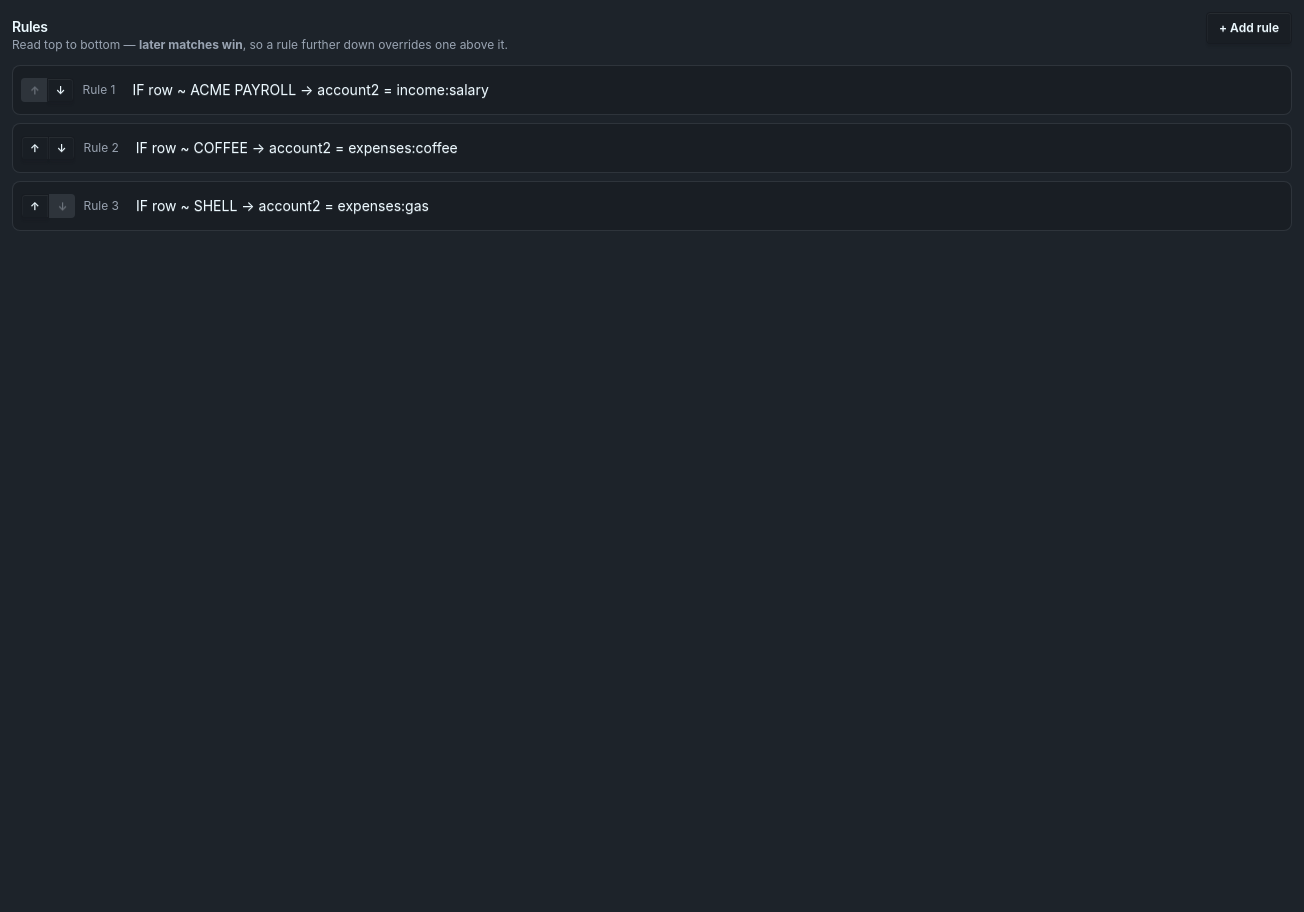
Test: COMPONENT RulesList AND-groups › adds a condition to the group being edited, and a new group beside it
What coordinates should you click on to do the following:
click the button with aria-label "Edit rule 2"
I would click on:
 (297, 148)
Its box is [127, 132, 1283, 164].
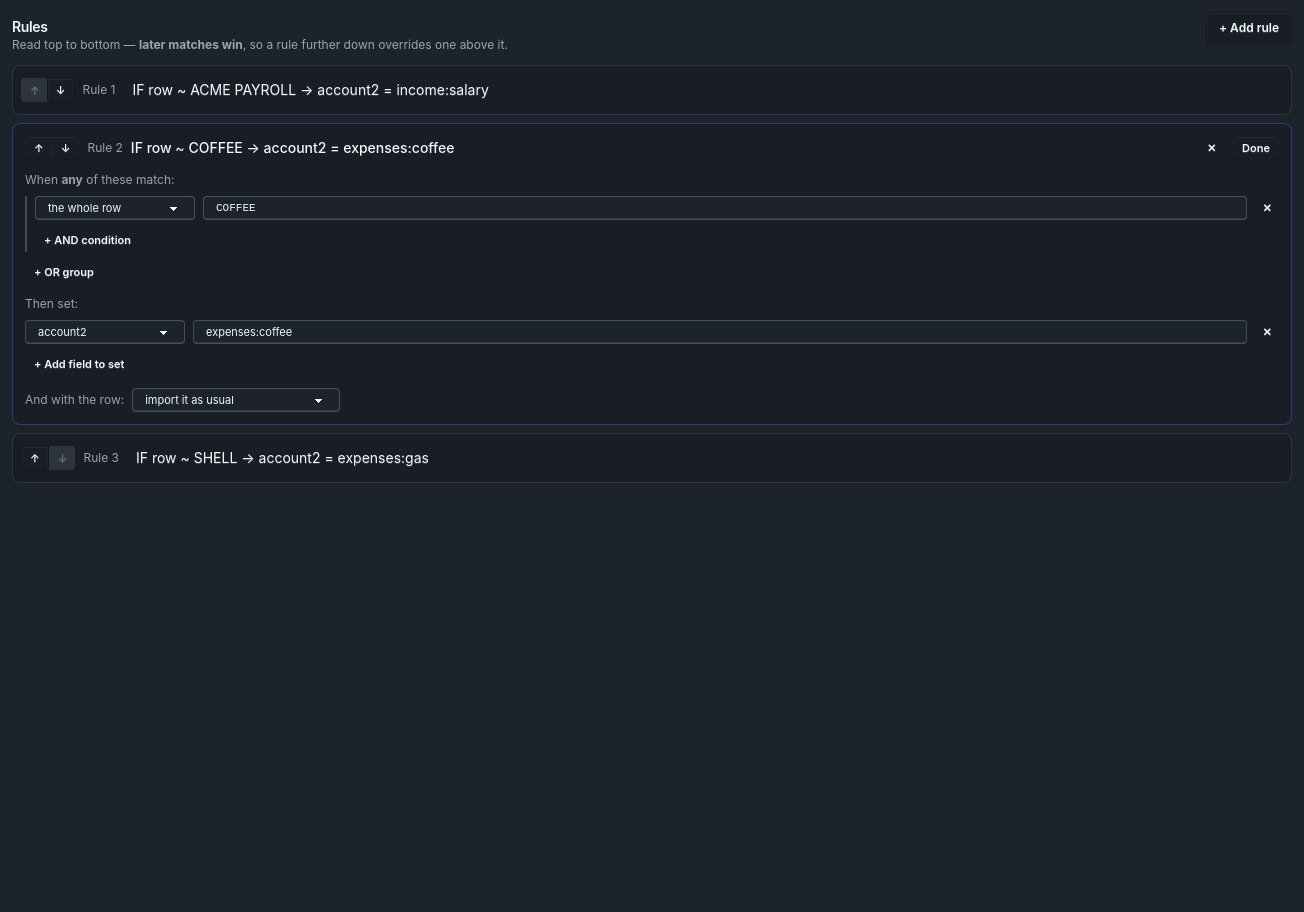
What coordinates should you click on to do the following:
click the button with aria-label "Add an AND condition to group 1 of rule 2"
I would click on:
 (88, 240)
Its box is [35, 228, 140, 252].
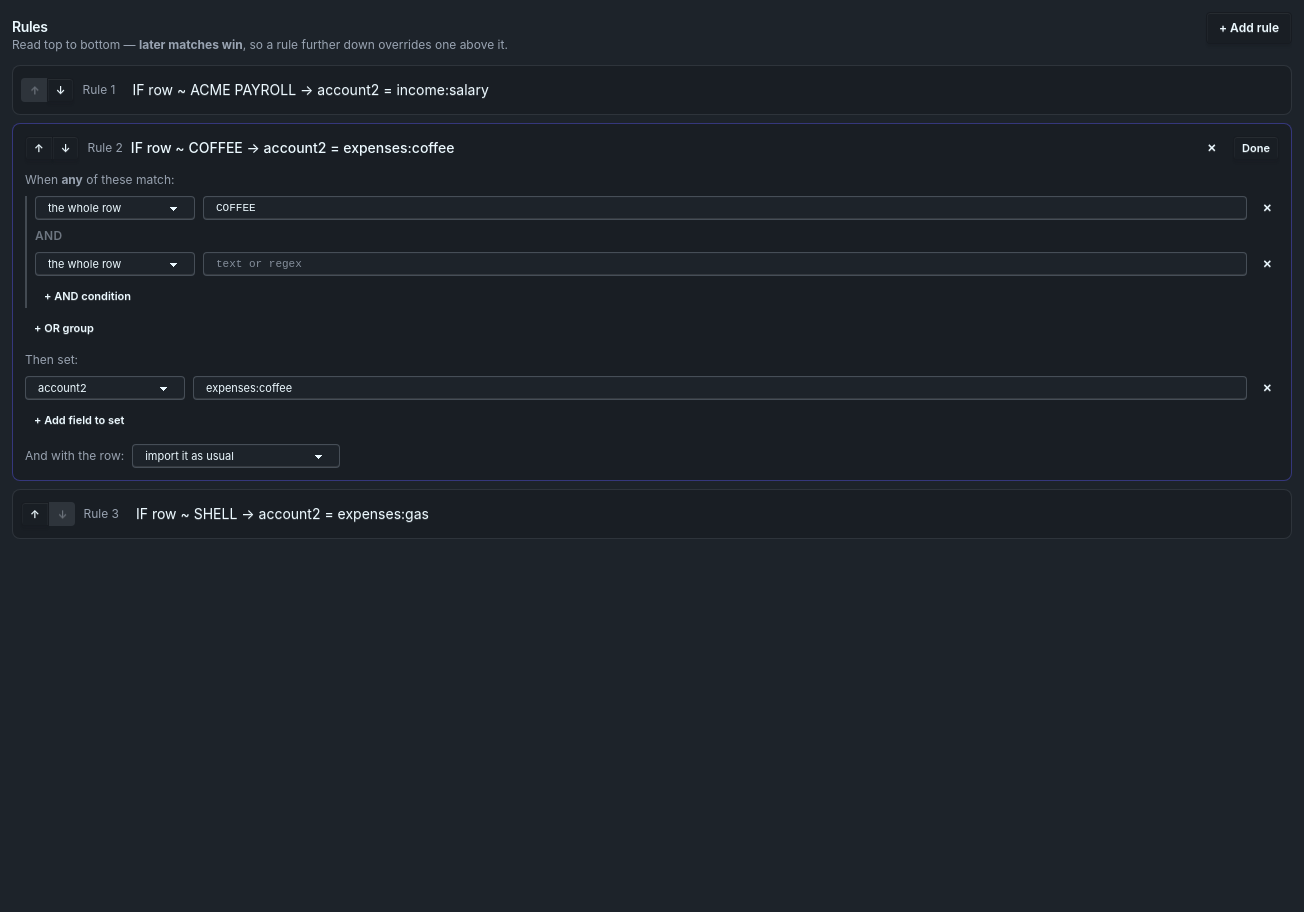
What coordinates should you click on to do the following:
click the button with aria-label "Add an OR group to rule 2"
I would click on:
 (64, 328)
Its box is [25, 316, 103, 340].
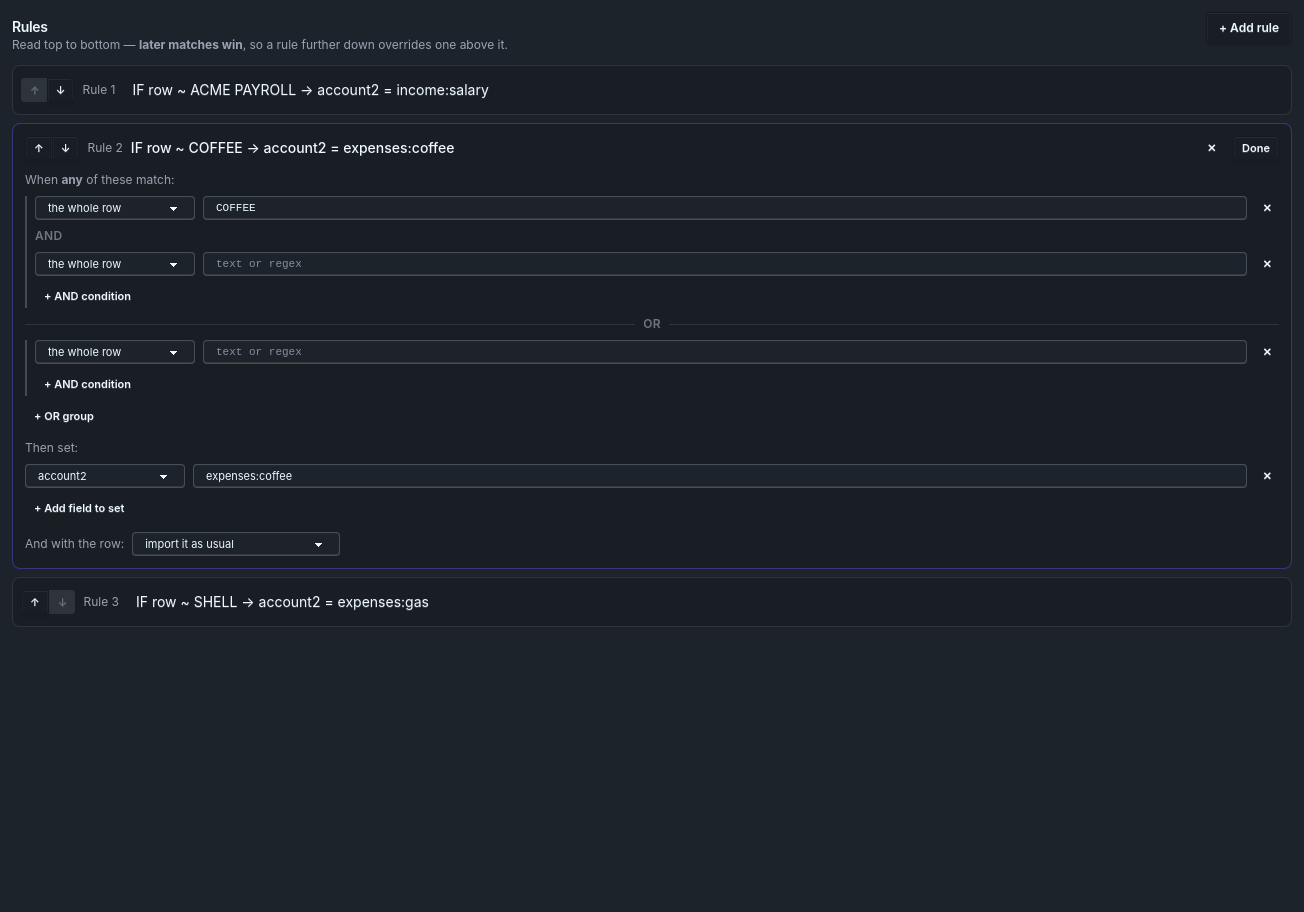
Result: the field named "Rule 2, group 1, match 2 text" is shown at [203, 252, 1247, 276]
Result: the field named "Rule 2, group 2, match 1 text" is shown at [203, 340, 1247, 364]
